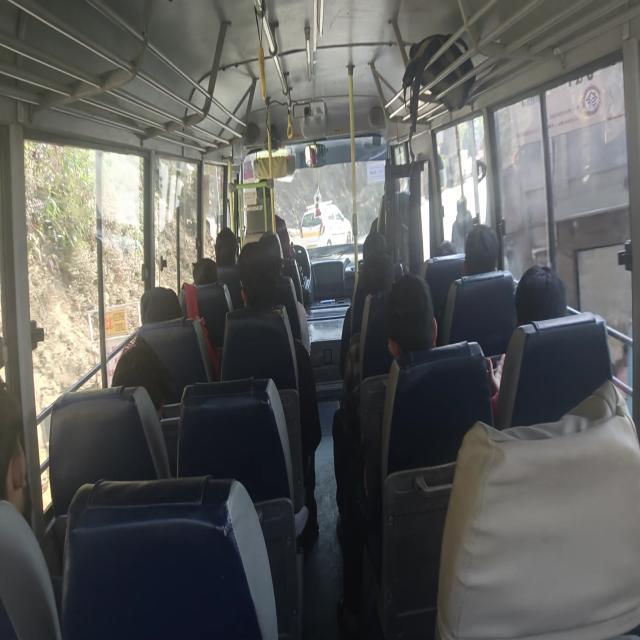person: (0, 377, 50, 527), (383, 276, 445, 370), (509, 258, 572, 330), (110, 336, 171, 402), (134, 282, 191, 331), (238, 244, 272, 304), (464, 226, 508, 270), (359, 253, 401, 294), (263, 226, 289, 277), (247, 174, 280, 214), (212, 221, 240, 264), (188, 255, 222, 287), (378, 172, 407, 205), (360, 226, 388, 250), (433, 237, 463, 259)
